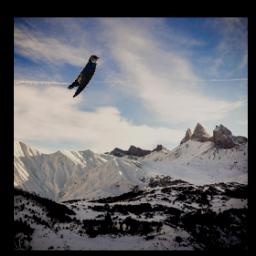Swallow: (58, 56, 99, 100)
